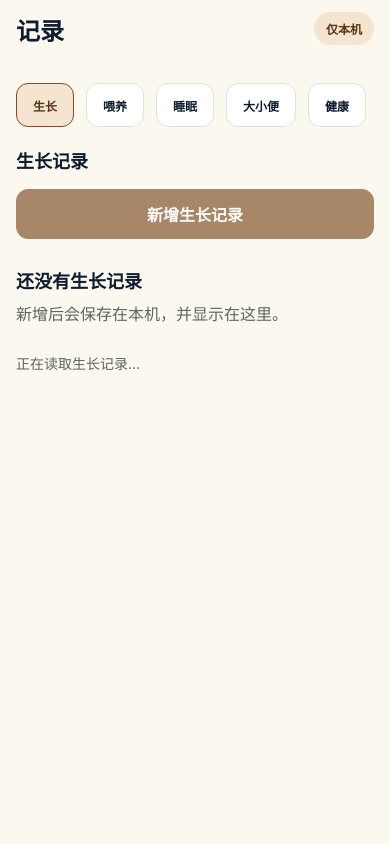
creates and opens exact diaper editors
expect the heading "还没有生长记录" is shown: met, box [16,271,142,292]
Click the tab "大小便". click: (261, 105)
box: [226,83,296,127]
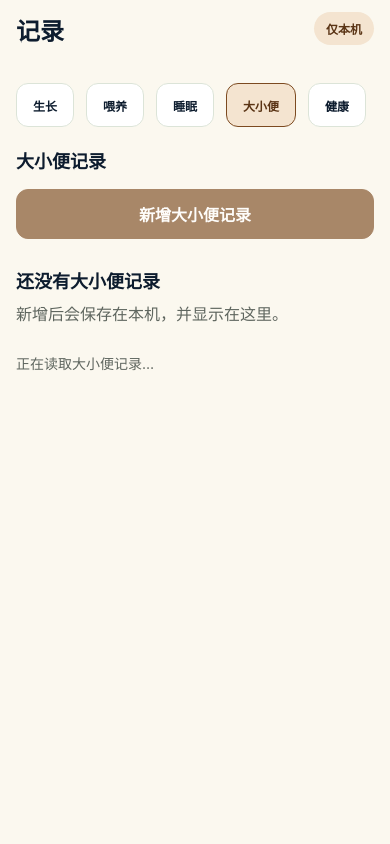
Click the button. click: (195, 214)
box: [16,189,374,239]
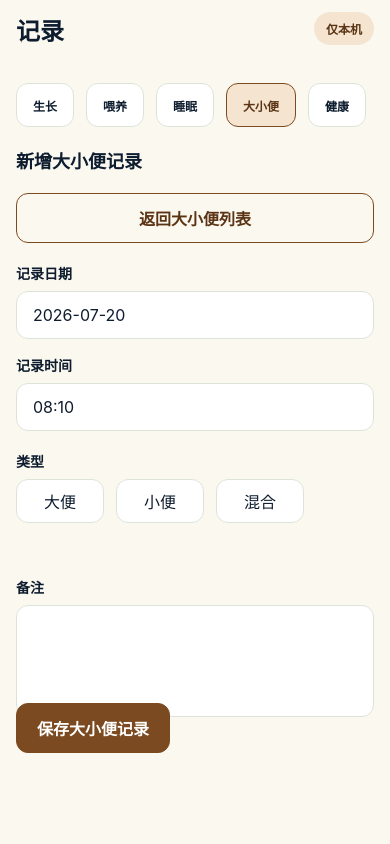
expect the field named "记录时间" is shown: met, box [16,383,374,431]
